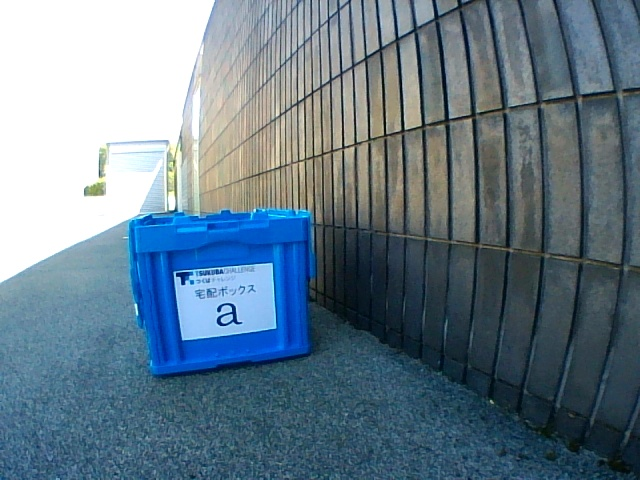blue_box: (128, 207, 316, 374)
tag_a: (188, 276, 269, 329)
